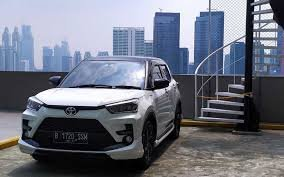mobil: (20, 52, 184, 165)
